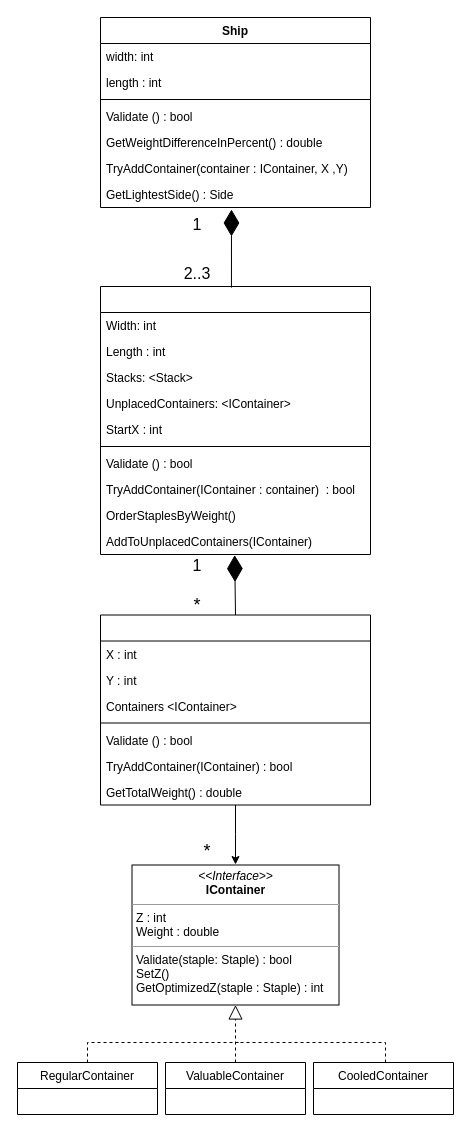
Image size: 471x1132. Some labels were removed from this diagram. Here are the shapes that lost their labels. From the top down, the box of each, then its label:
(100, 286, 370, 554): Side
(100, 614, 370, 805): Stack
